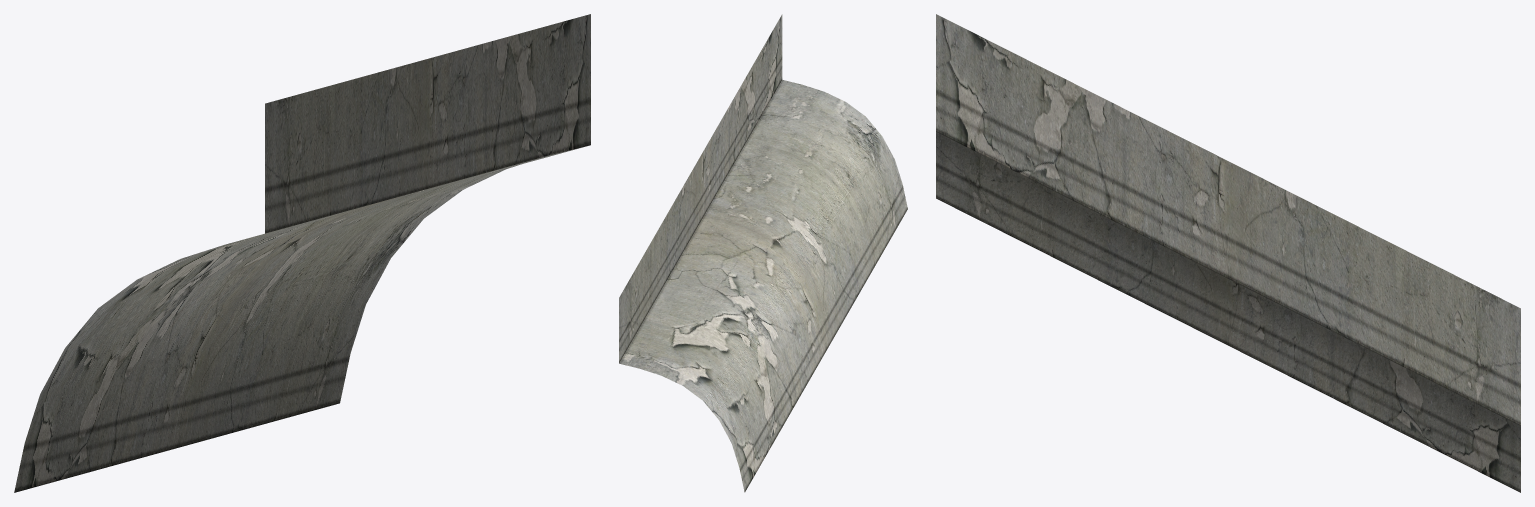
Rendered from urban_damaged_deco_right_angle_ceiling.dae.
3 views of the same model, side by side, from view 1: azimuth 30°, elevation 25°; view 2: azimuth 150°, elevation 25°; view 3: azimuth 270°, elevation 25° (orthographic). The views are drawn at different scales.
Parts seen in each view (by area): view 1: polySurface785; view 2: polySurface785; view 3: polySurface785.
Boxes of the visible parts, x1,y1,x2,y2 form: polySurface785: [14, 14, 590, 492]; polySurface785: [619, 14, 907, 492]; polySurface785: [936, 14, 1520, 492].
Bounding box in the file's own units: 1 × 2.5 × 2.25.
